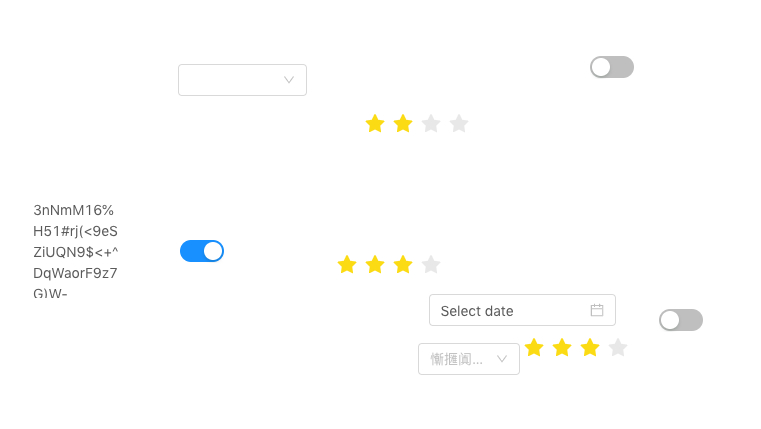DatePicker: (429, 294, 616, 326)
Rate: (365, 107, 485, 139), (337, 248, 457, 280), (524, 331, 644, 363)
Select: (178, 64, 307, 96), (418, 343, 520, 375)
Switch: (180, 239, 224, 263), (659, 308, 703, 332), (590, 55, 634, 79)
Text: (33, 199, 123, 298)
